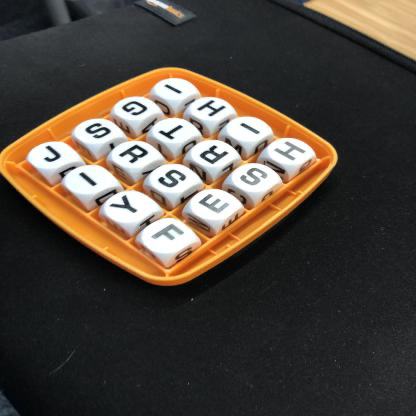e: (190, 188, 241, 223)
f: (142, 218, 198, 257)
g: (117, 97, 155, 122)
h: (271, 136, 314, 166), (194, 99, 231, 122)
i: (66, 165, 110, 197), (228, 119, 269, 143), (156, 80, 193, 105)
j: (29, 142, 74, 173)
r: (191, 142, 237, 171), (116, 142, 155, 170)
s: (236, 162, 284, 197), (154, 164, 198, 193), (79, 120, 116, 143)
t: (155, 119, 189, 143)
y: (107, 190, 153, 225)
